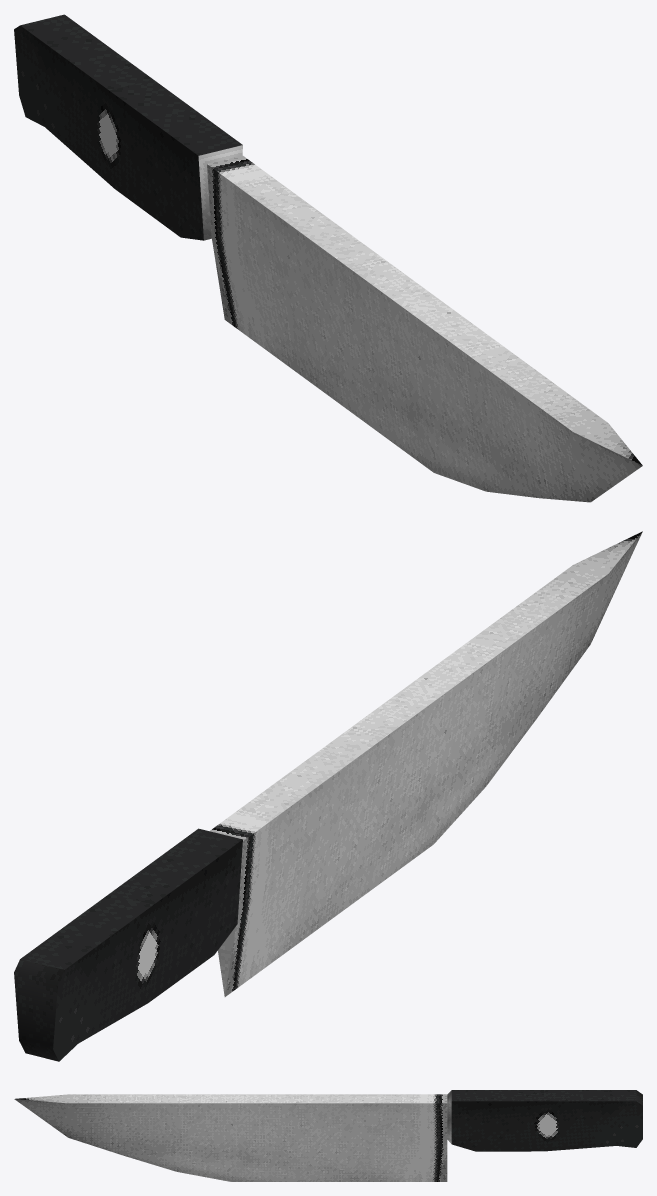
File: retro_knife.glb
3 views of the same model, one above another, from view 1: azimuth 30°, elevation 25°; view 2: azimuth 150°, elevation 25°; view 3: azimuth 270°, elevation 25° (orthographic). The views are drawn at different scales.
Visible parts, largest first — view 1: Cube; view 2: Cube; view 3: Cube.
Part boxes in pixels (bbox=[...]): Cube: bbox=[14, 14, 642, 502]; Cube: bbox=[14, 531, 642, 1061]; Cube: bbox=[14, 1090, 642, 1181].
Bounding box in the file's own units: 0.0127 × 0.0454 × 0.3.
Materials: 1 (1 with a texture image).
